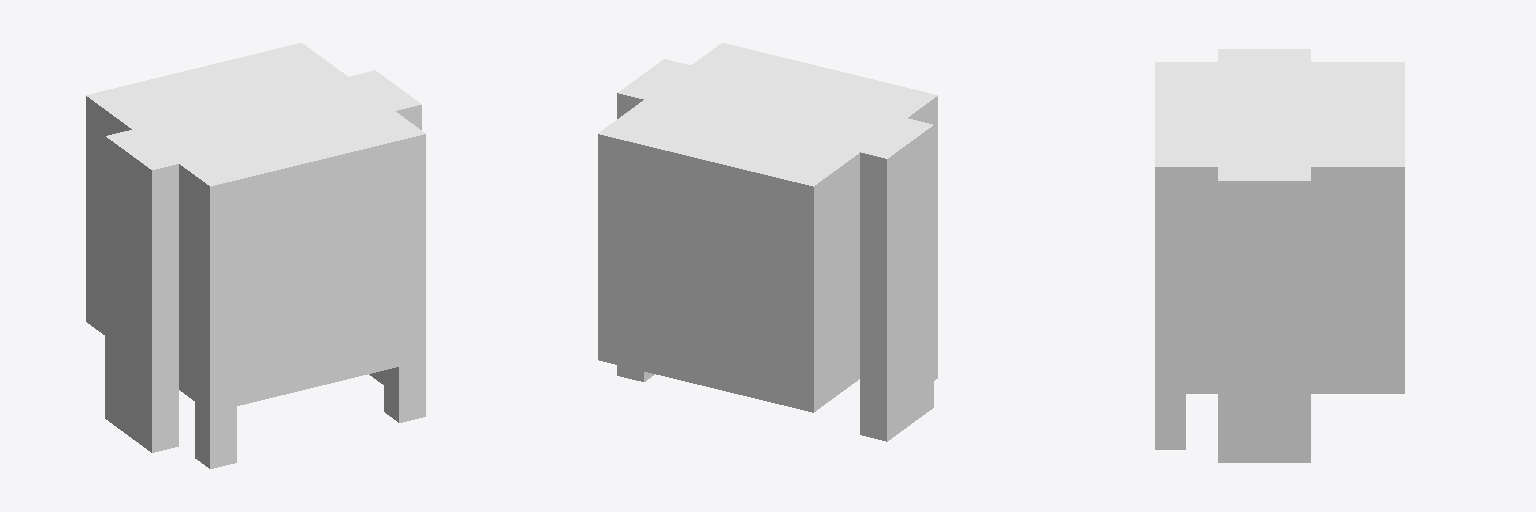
The model's file is yukari_head_flush_0.1.obj.
The picture shows the model from 3 angles: view 1: azimuth 30°, elevation 25°; view 2: azimuth 150°, elevation 25°; view 3: azimuth 270°, elevation 25°; orthographic projection.
Bounding box in the file's own units: 10 × 10 × 8.